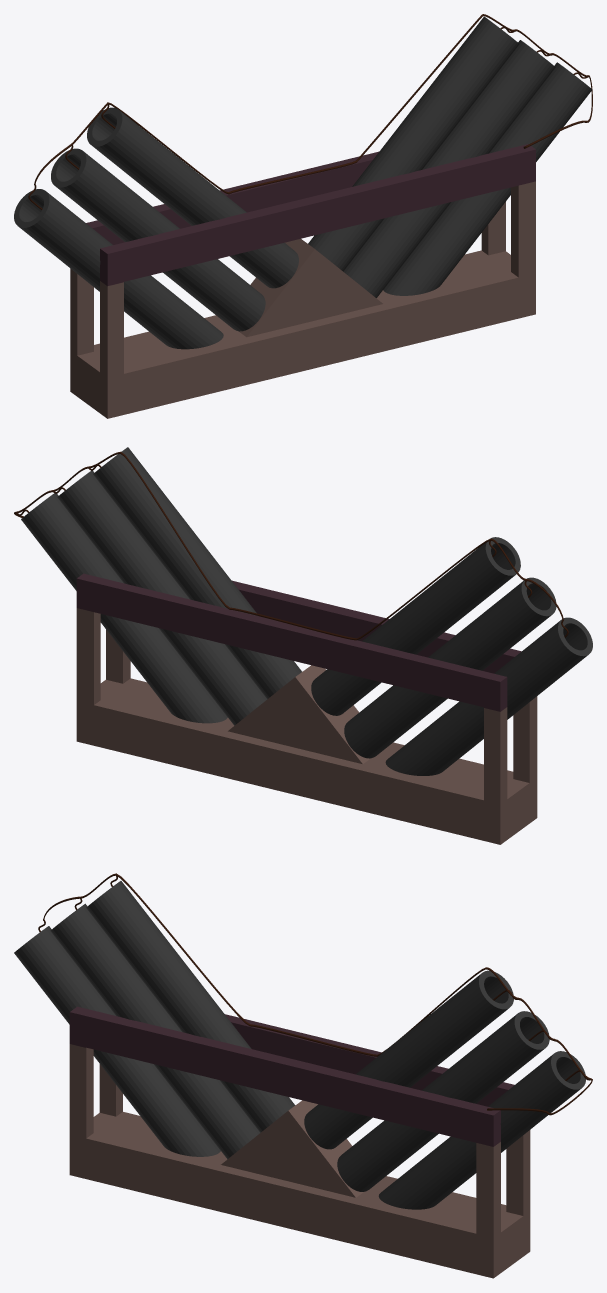
The model's file is S-SSparkleRack.fbx.
The picture shows the model from 3 angles, top to bottom: view 1: azimuth 30°, elevation 25°; view 2: azimuth 150°, elevation 25°; view 3: azimuth 330°, elevation 25°; orthographic projection.
Visible parts, largest first — view 1: Cube, Cylinder.003, Cylinder.005, Cylinder.006, Cylinder, Cylinder.004, Cylinder.007, Cube.001, BezierCurve.009; view 2: Cube, Cylinder.005, Cylinder.003, Cylinder.006, Cylinder, Cylinder.004, Cylinder.007, Cube.001, BezierCurve.009; view 3: Cube, Cylinder.004, Cylinder, Cylinder.007, Cylinder.005, Cylinder.003, Cylinder.006, Cube.001, BezierCurve.009.
Boxes of the visible parts, x1,y1,x2,y2 form: Cube: (70, 144, 535, 418); Cylinder.003: (308, 16, 519, 271); Cylinder.005: (343, 40, 555, 297); Cylinder.006: (383, 62, 592, 295); Cylinder: (51, 148, 265, 331); Cylinder.004: (87, 107, 298, 288); Cylinder.007: (14, 189, 223, 349); Cube.001: (239, 239, 382, 337); BezierCurve.009: (34, 14, 592, 194); Cube: (76, 573, 537, 844); Cylinder.005: (57, 470, 267, 725); Cylinder.003: (93, 447, 301, 698); Cylinder.006: (21, 493, 227, 723); Cylinder: (344, 577, 556, 758); Cylinder.004: (311, 537, 520, 715); Cylinder.007: (385, 617, 592, 775); Cube.001: (228, 665, 370, 764); BezierCurve.009: (14, 451, 563, 640); Cube: (69, 1006, 530, 1278); Cylinder.004: (86, 881, 295, 1132); Cylinder: (50, 903, 260, 1159); Cylinder.007: (14, 926, 220, 1156); Cylinder.005: (337, 1011, 549, 1191); Cylinder.003: (304, 970, 513, 1149); Cylinder.006: (378, 1051, 585, 1209); Cube.001: (221, 1100, 363, 1197); BezierCurve.009: (43, 873, 592, 1115).
Size of the model in its own units: 444 by 216 by 49.47.
